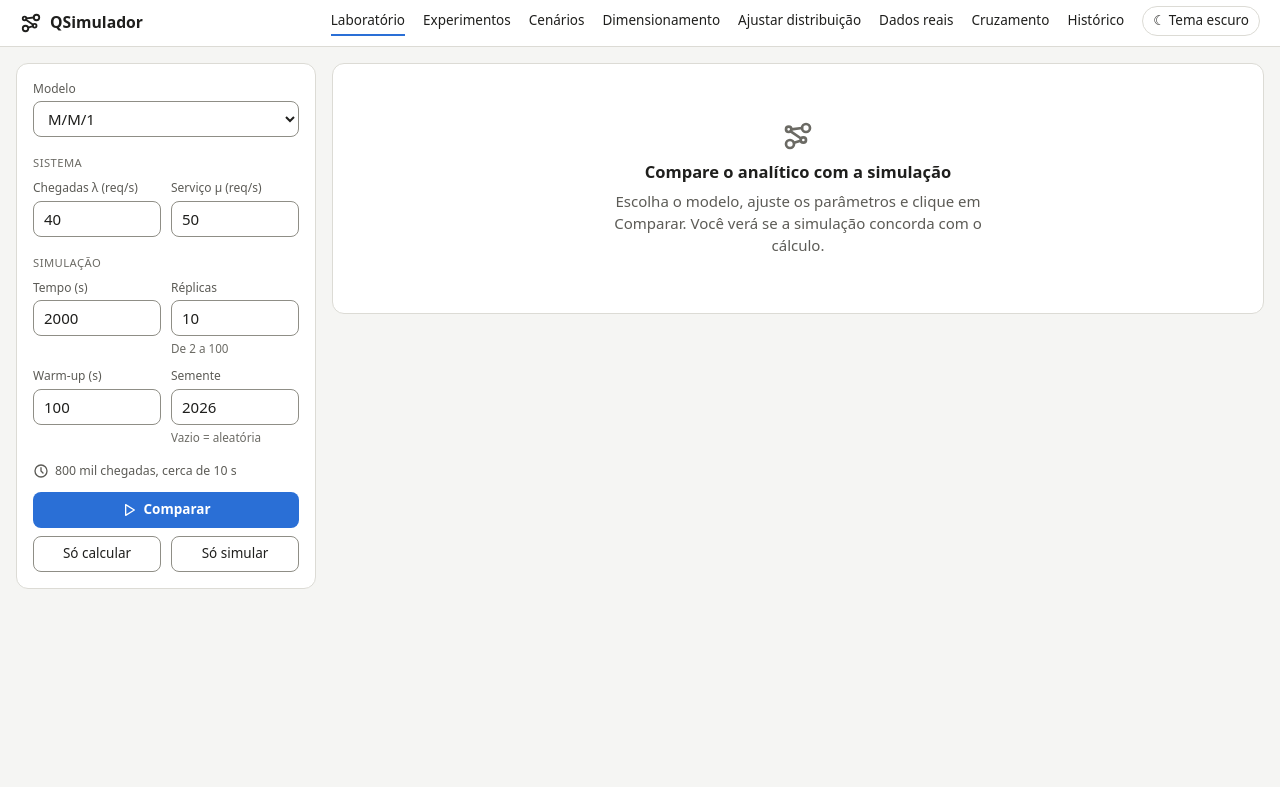
Test case: experimentos do M/G/1 › varre o CV enviando o serviço e mostra a espera crescendo
Select "M/G/1" in the dropdown labelled "Modelo" at point(166, 119), box [33,101,299,137]
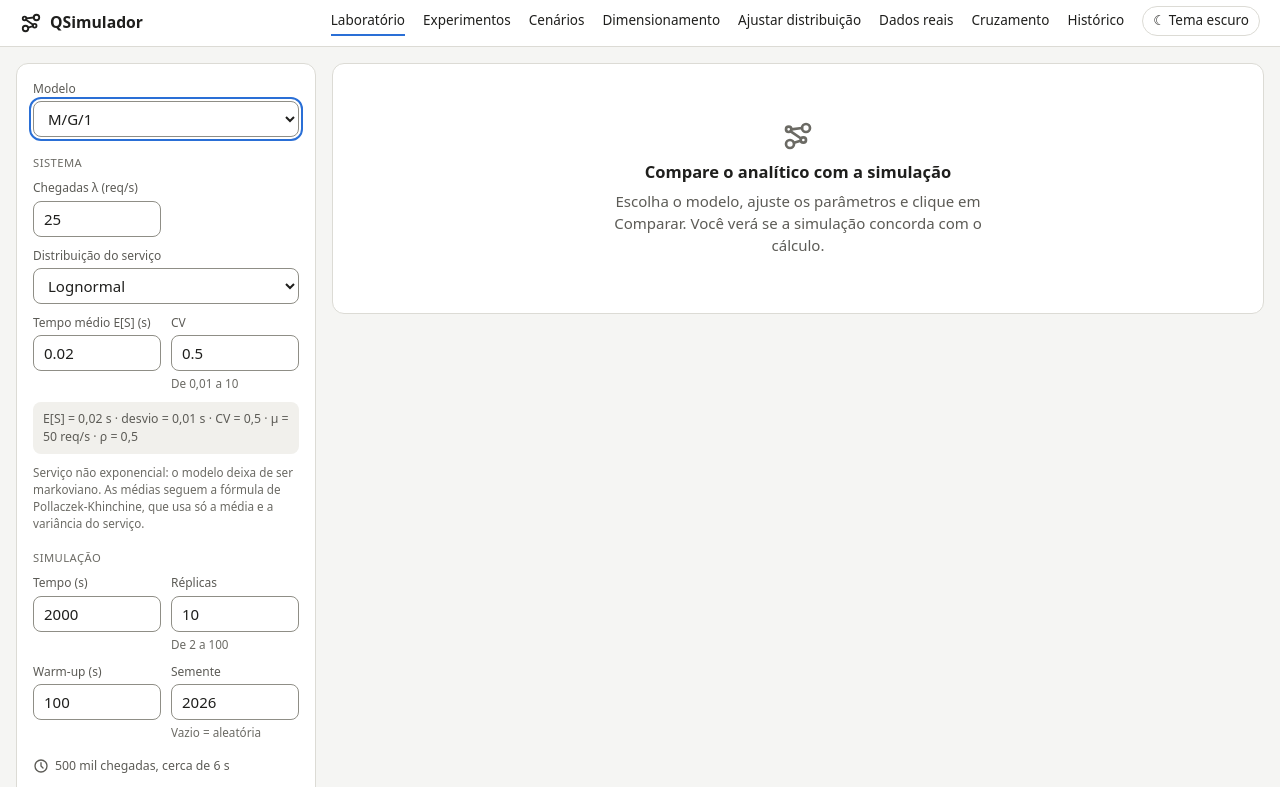
Click the button "Experimentos" at point(467, 23), box [423,10,511,36]
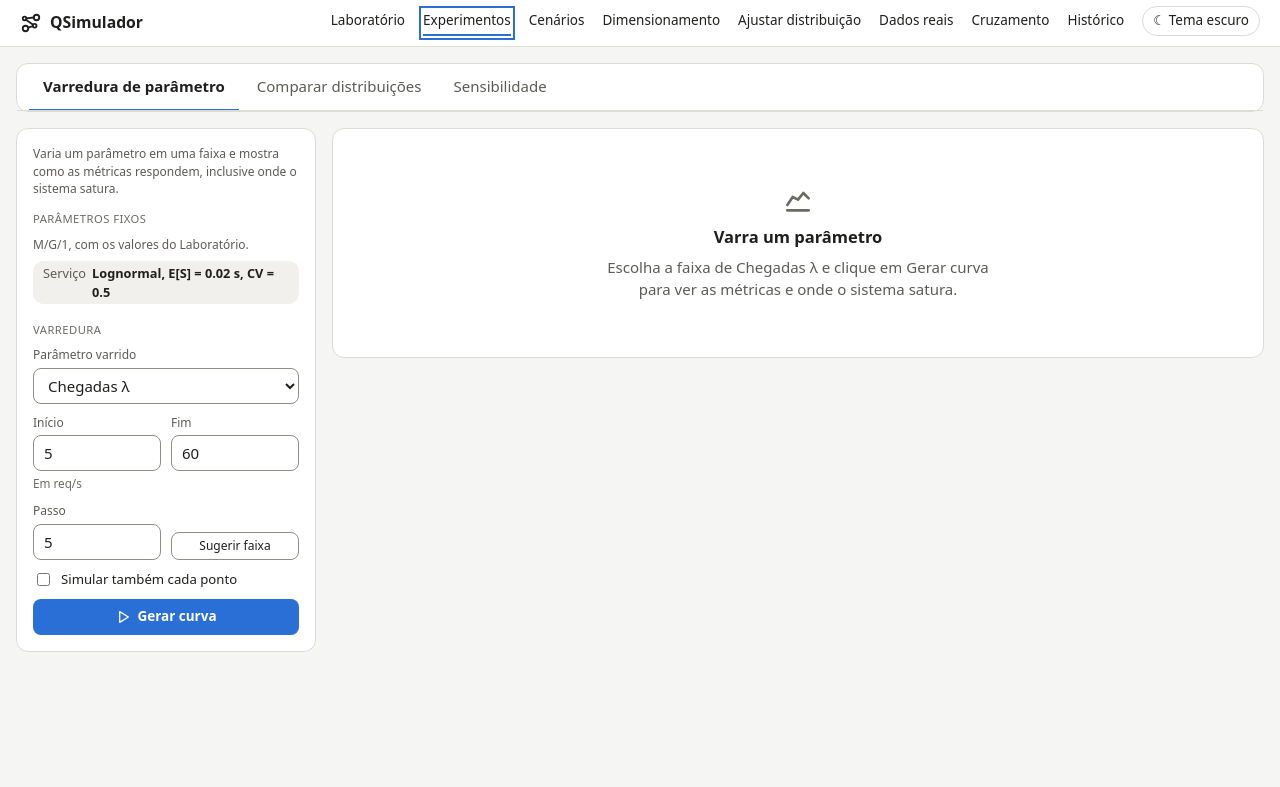
Select "CV do serviço" in the dropdown labelled "Parâmetro varrido" at point(166, 386), box [33,368,299,404]
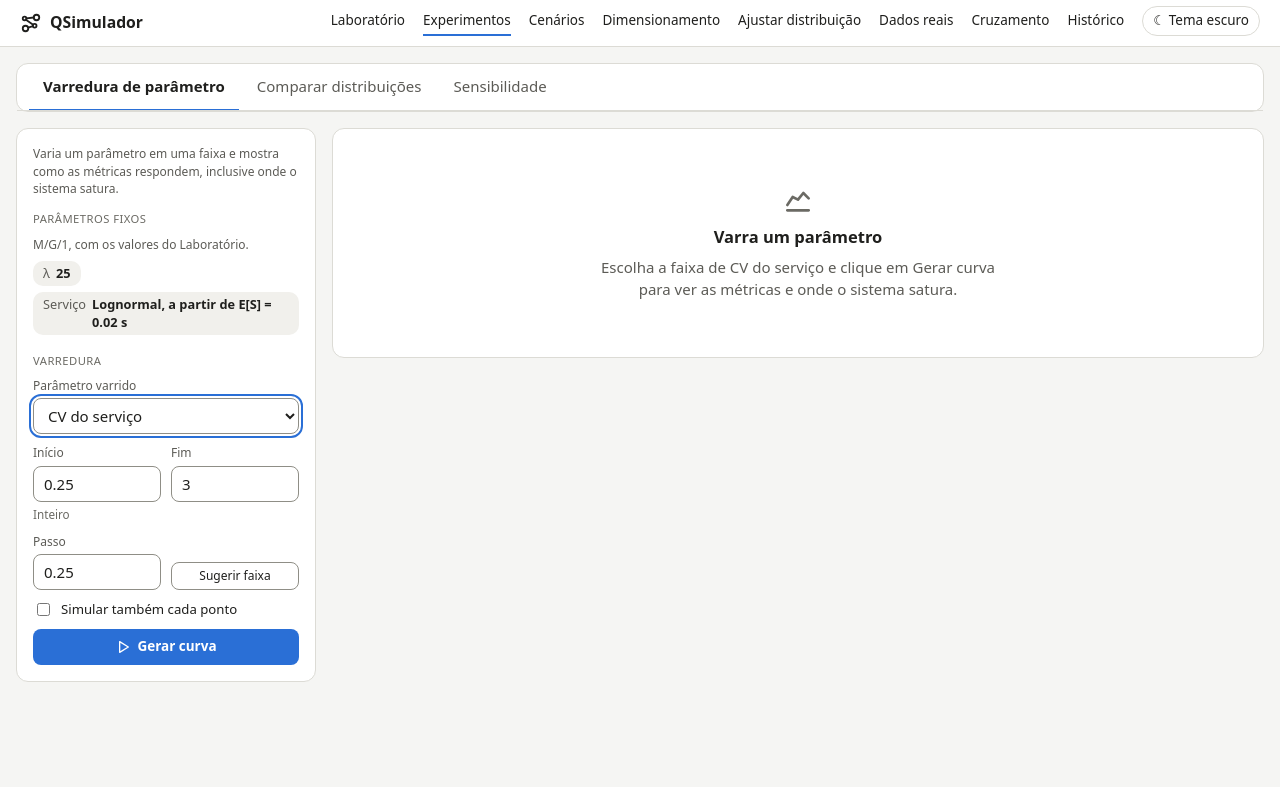
Now the field labelled "Início" holds "0.25", box [33,466,161,502]
Now the field labelled "Fim" holds "3", box [171,466,299,502]
Click the button "Gerar curva" at point(166, 647), box [33,629,299,665]
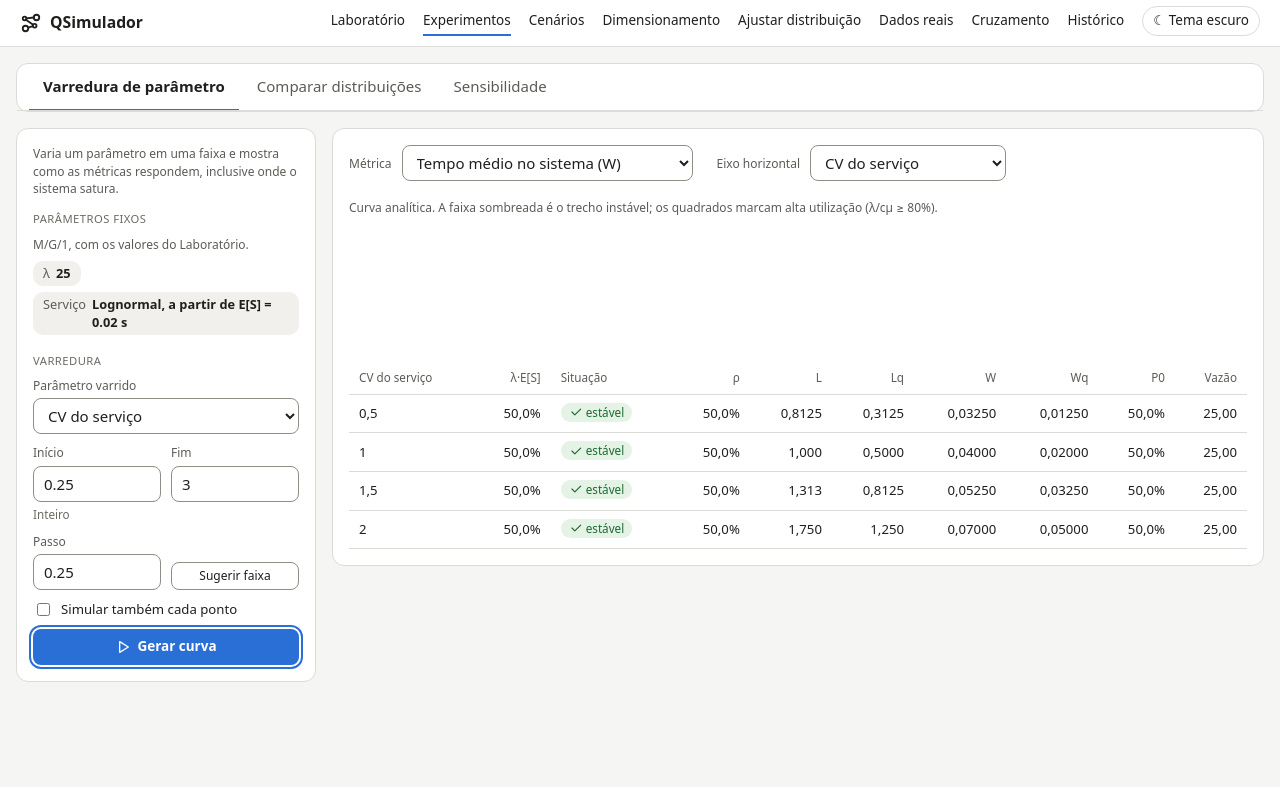
Now the table is shown, box [349,361,1247,549]
